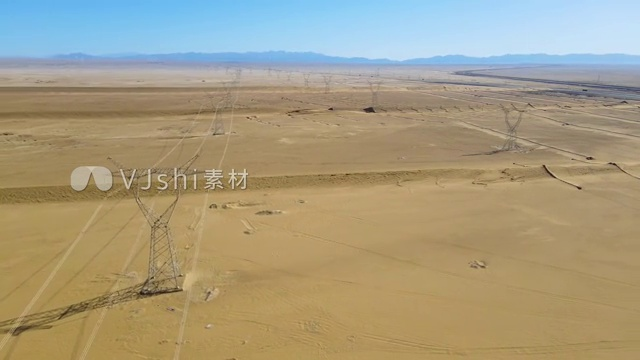tower_body: (107, 152, 205, 297), (500, 102, 523, 152), (207, 91, 231, 137)
tower_foot: (145, 252, 184, 295)
tower_head: (109, 155, 203, 225)
